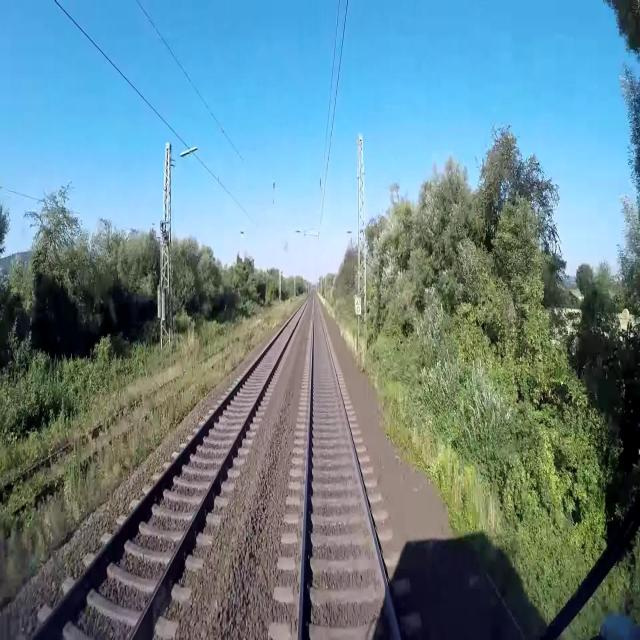rail-track: (36, 300, 306, 639), (302, 295, 396, 639)
